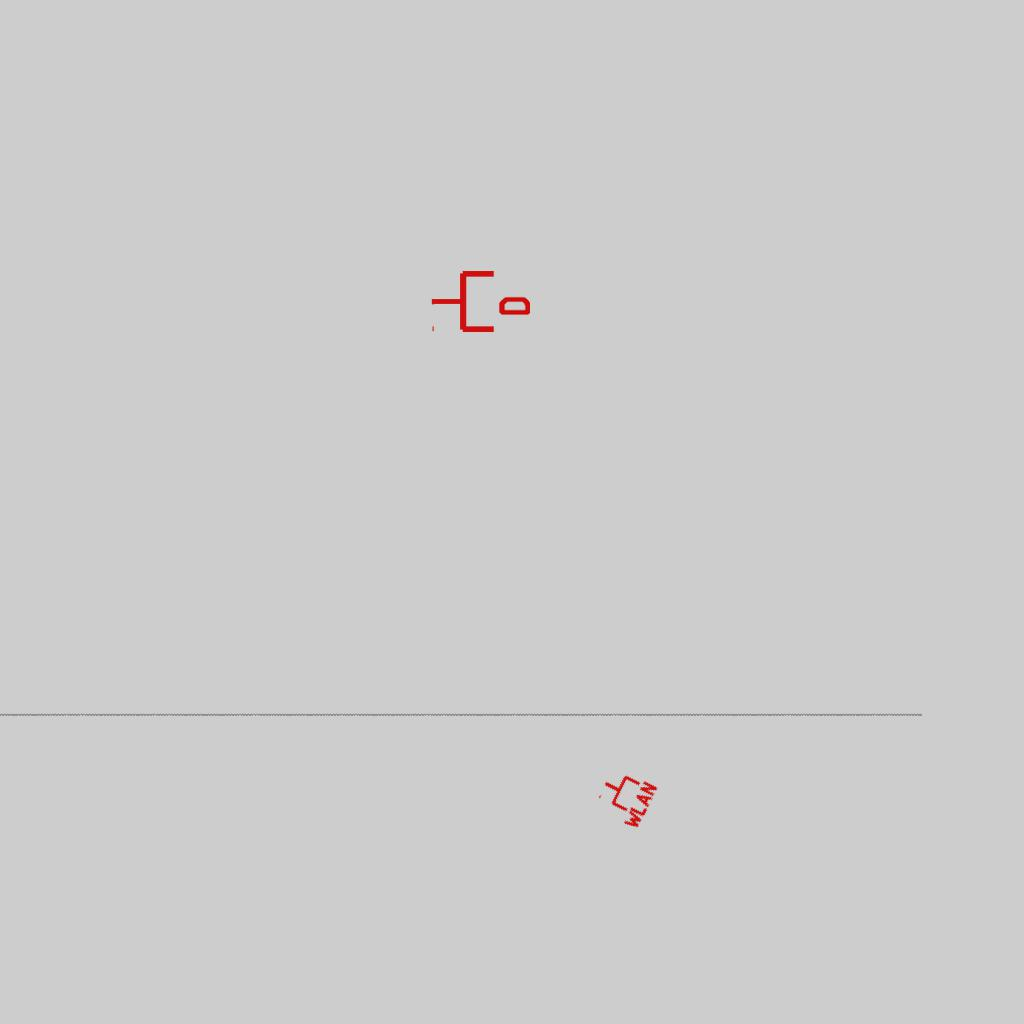Datenanschluss_einfach: (430, 267, 530, 336)
WLAN: (590, 763, 660, 833)
